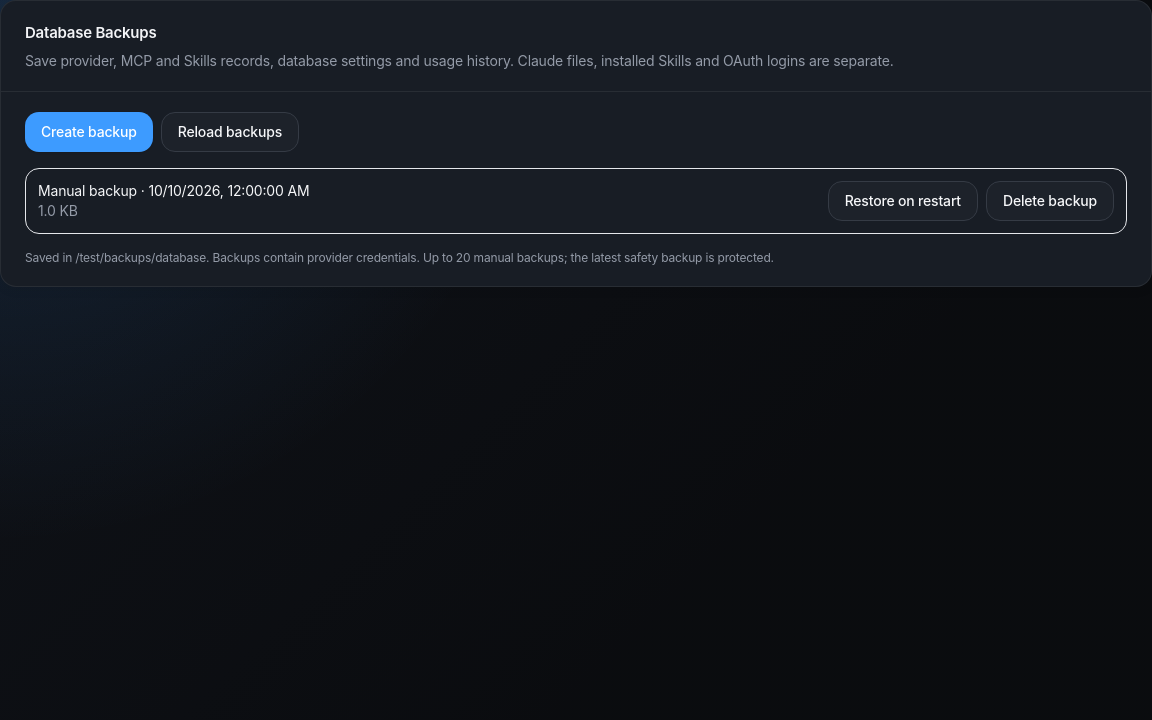
Scenario: reports completed creation when refresh fails and requires reload
expect the text "Manual backup · 10/10/2026, 12:00:00 AM" is shown: met, box [38, 181, 309, 201]
Step 1. Click the button "Create backup" → x=89, y=132, box [25, 112, 153, 152]
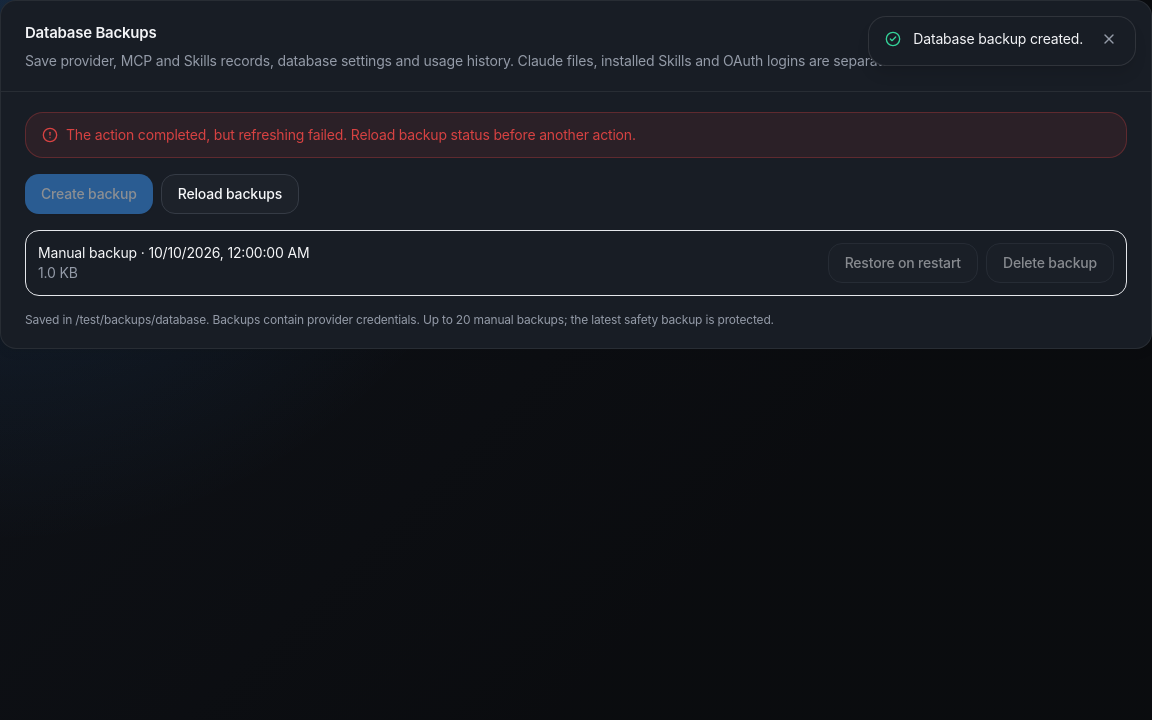
expect the text "The action completed, but refreshing failed" is shown: met, box [66, 126, 636, 143]
expect the message "Database backup created." is shown: met, box [868, 16, 1136, 66]
expect the button "Create backup" is disabled: met, box [25, 174, 153, 214]
Step 2. Click the button "Reload backups" → x=230, y=194, box [161, 174, 299, 214]
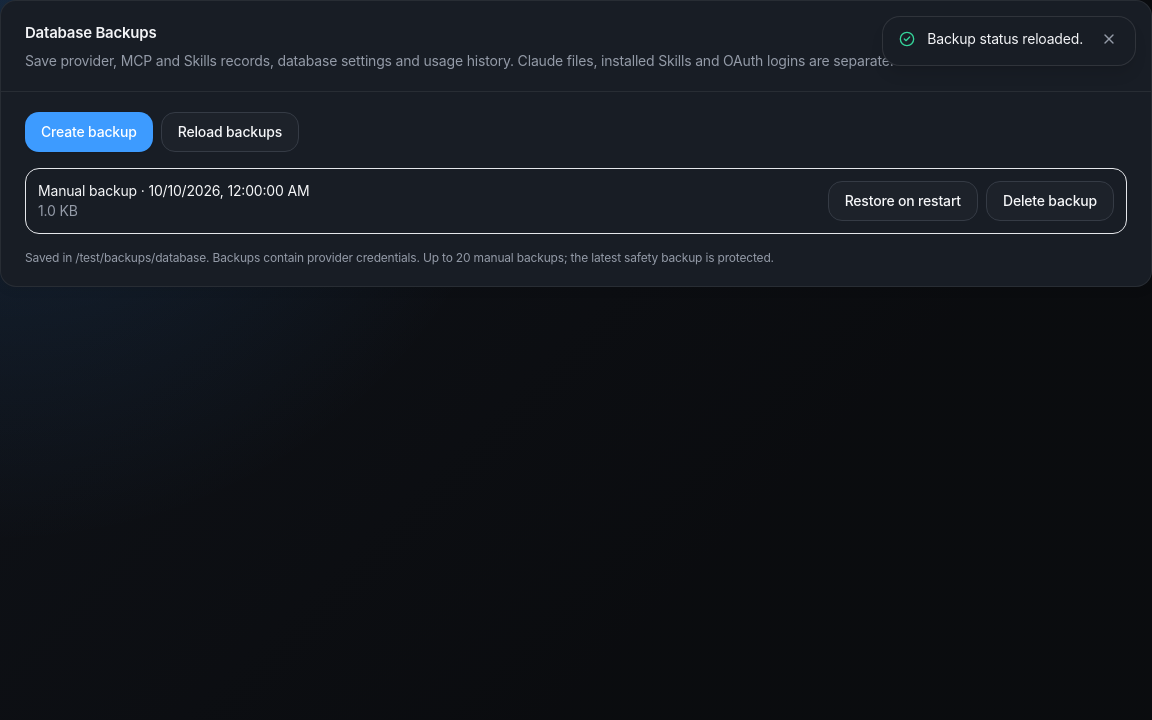
expect the button "Create backup" is enabled: met, box [25, 112, 153, 152]
